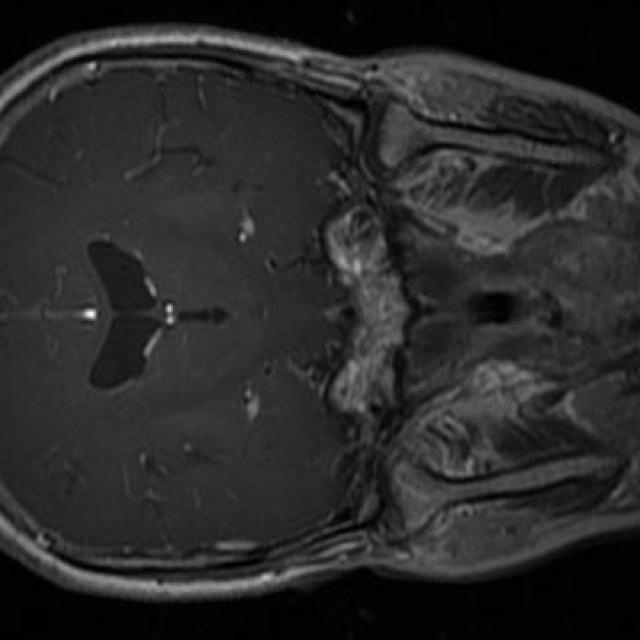glioma: (125, 123, 212, 182)
